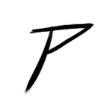a: (22, 21, 95, 96)
